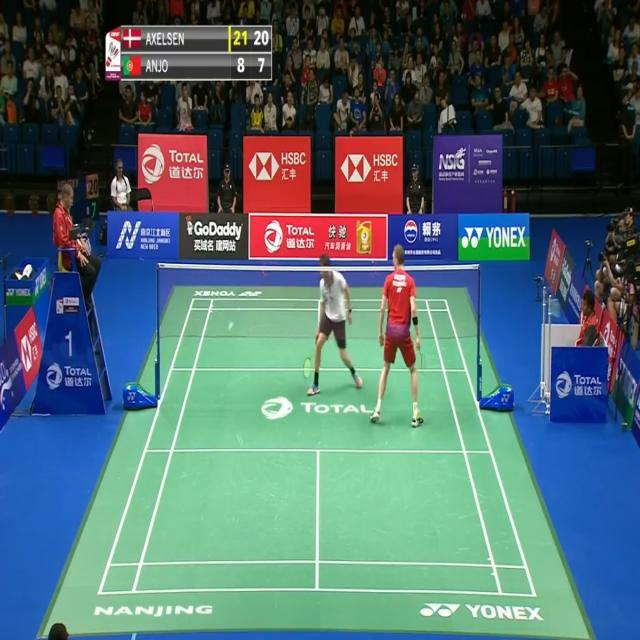Player1: (367, 240, 430, 434)
Player2: (288, 247, 364, 403)
